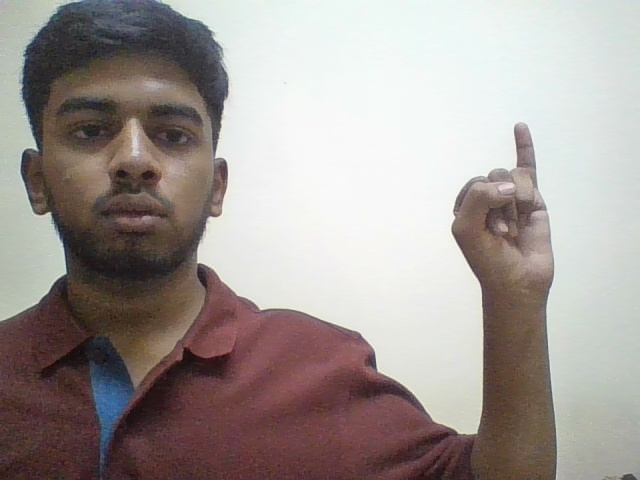I: (448, 109, 575, 320)
